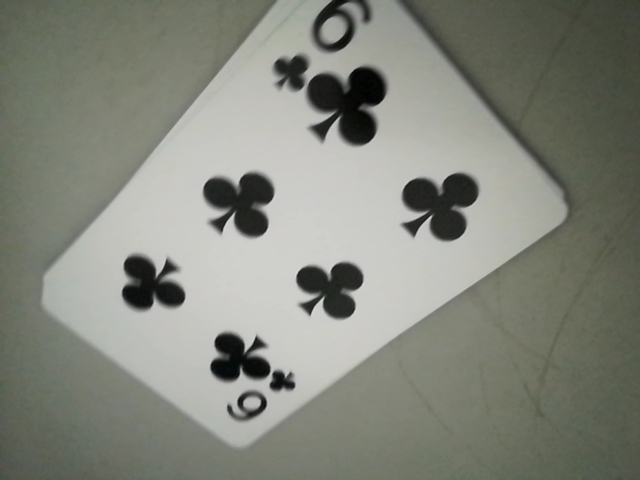mh 6: (269, 0, 388, 107), (214, 365, 302, 430)
